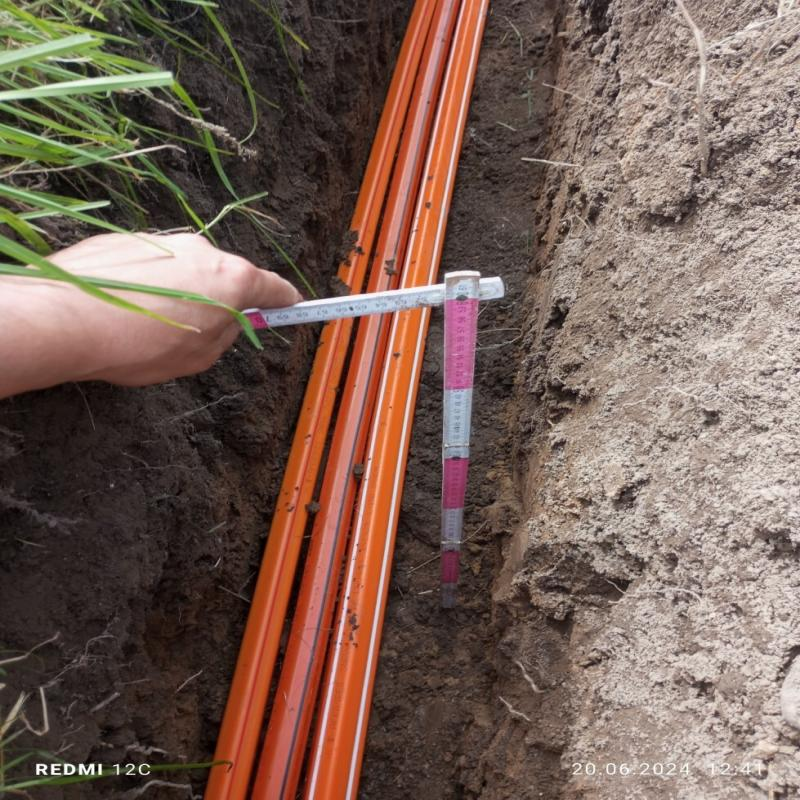Orang-Speednetrohrchen: (213, 0, 486, 800)
